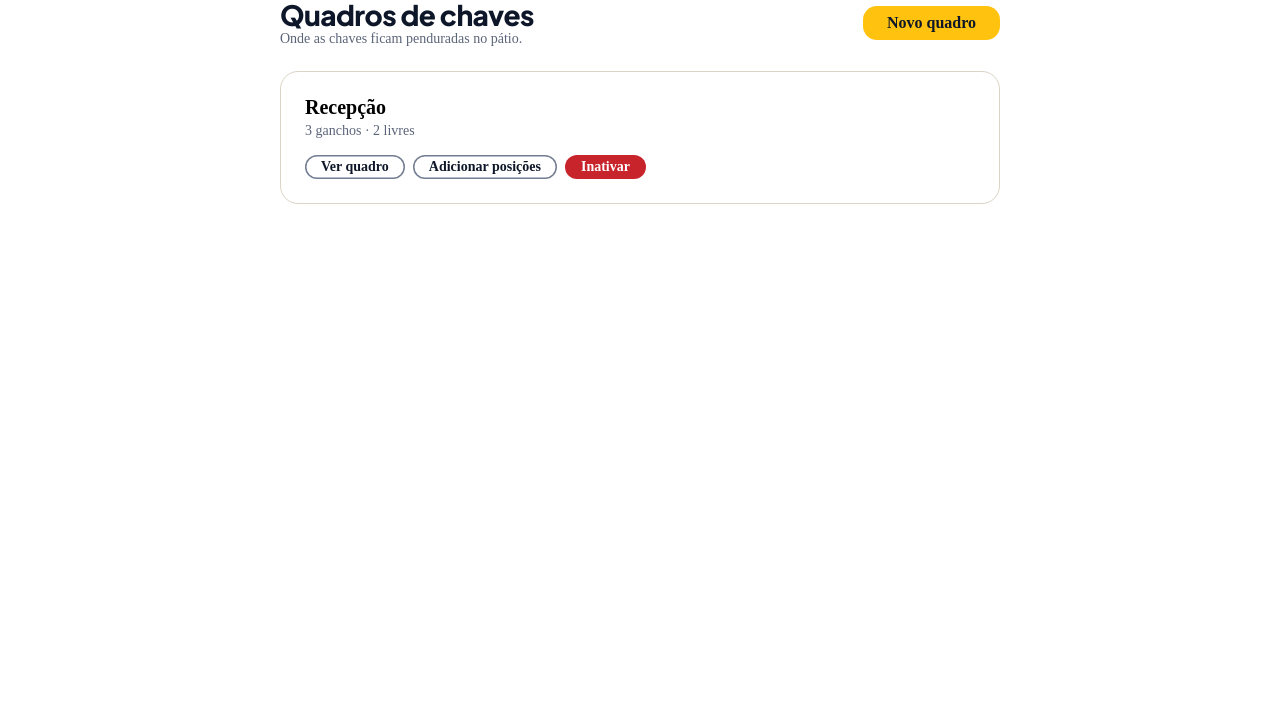
Test: QuadrosLista › inativar com chaves no pátio mostra o motivo e só oferece Entendi
The width and height of the screenshot is (1280, 720).
Click the button "Inativar". click: click(606, 167)
box: [565,155,646,179]
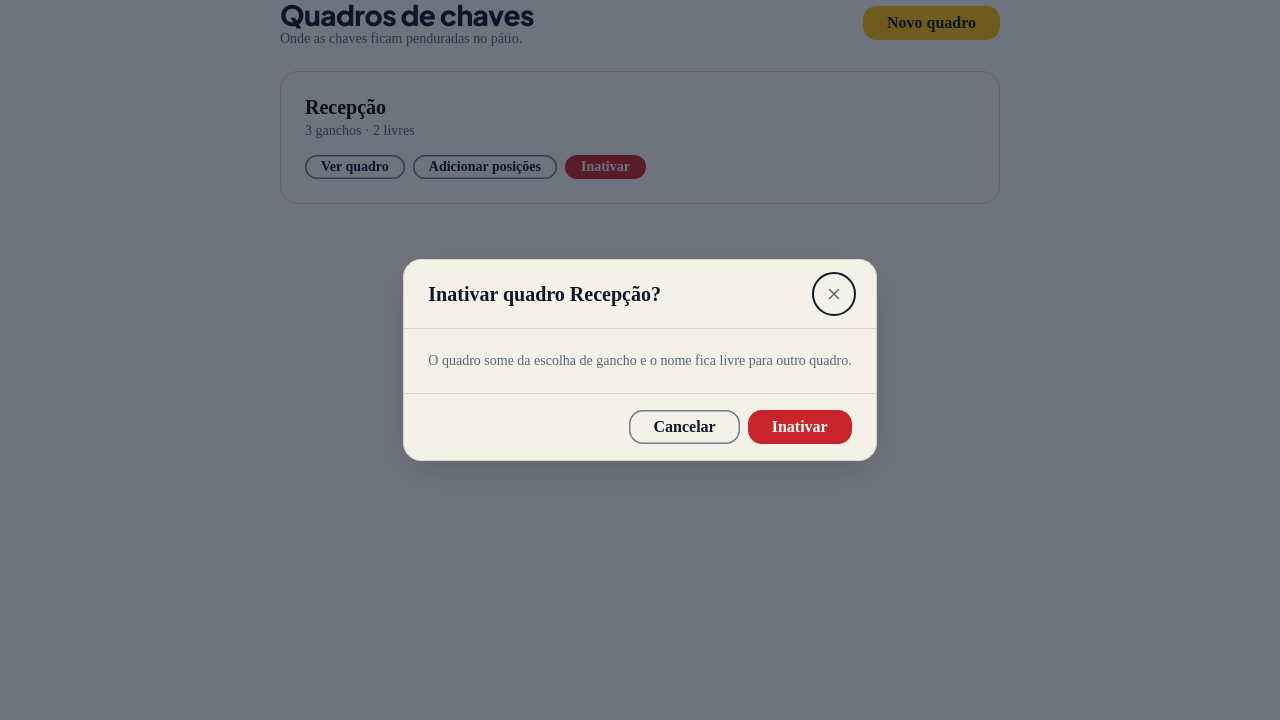
Click the button "Inativar". click: click(800, 427)
box: [748,410,852,444]
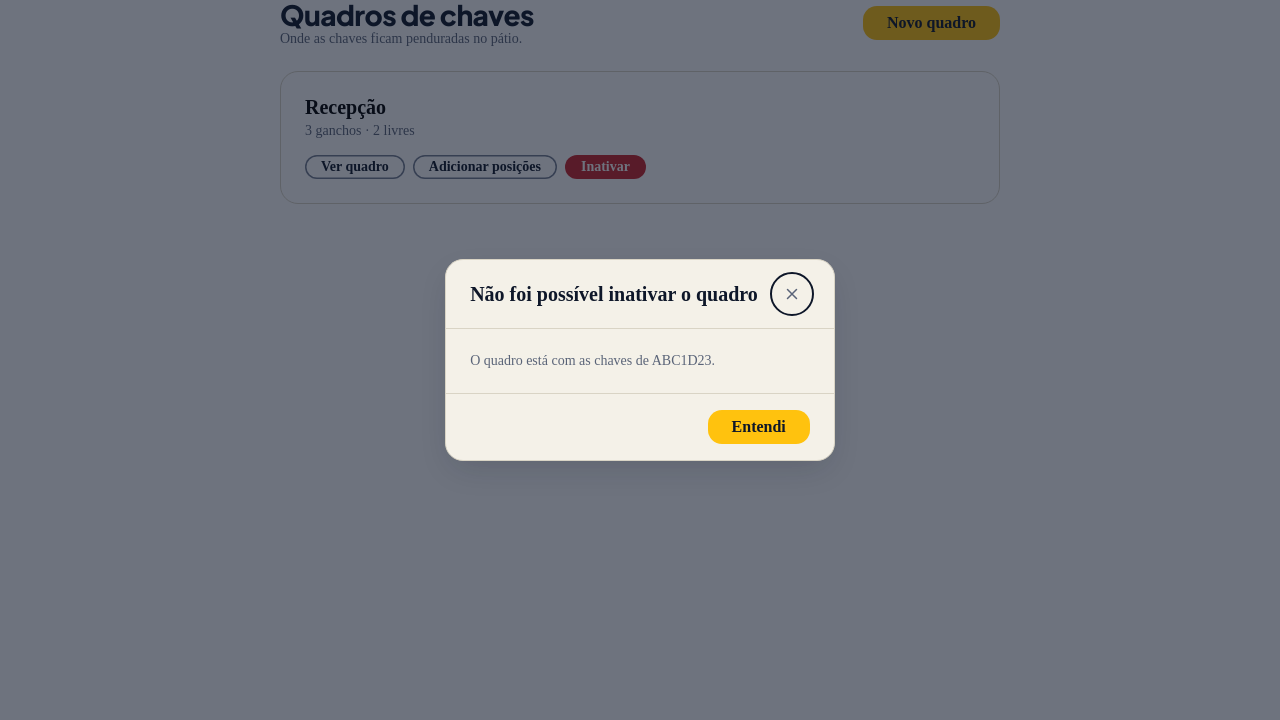
Now the text "O quadro está com as chaves de ABC1D23." is shown, box [470,353,715,368]
Click the button "Entendi". click: click(759, 427)
box: [708,410,810,444]
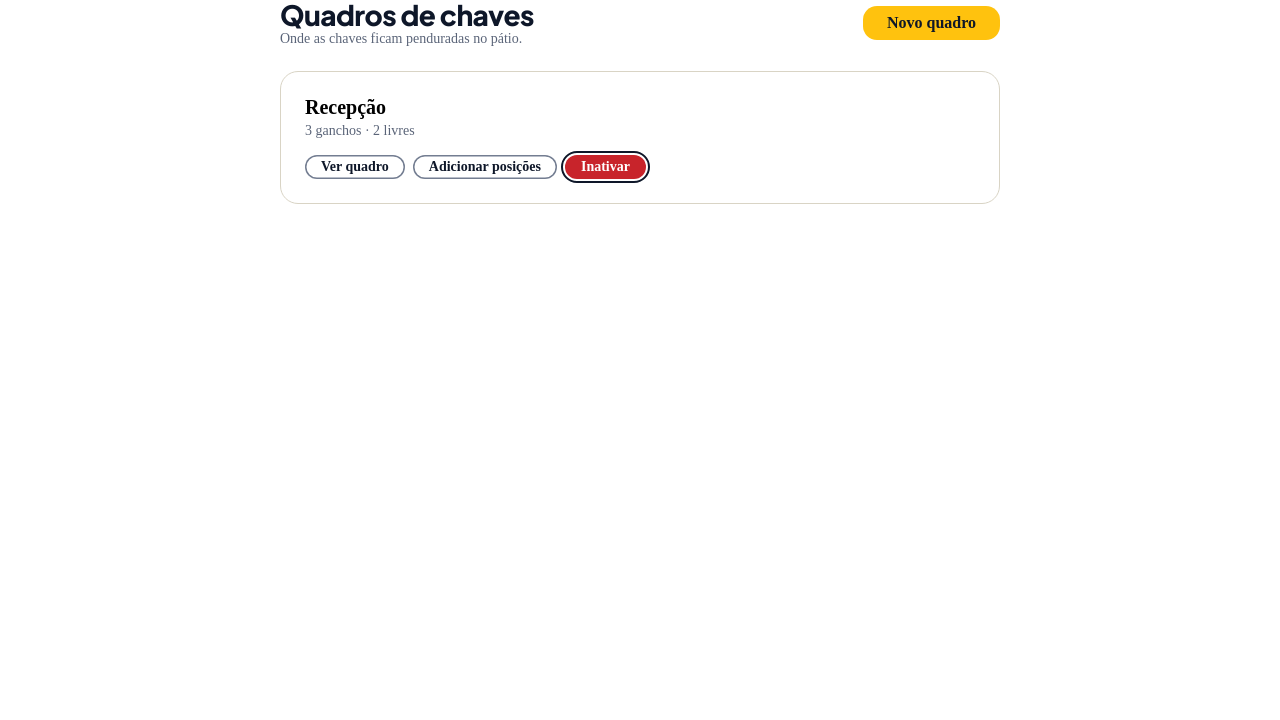
Now the text "O quadro está com as chaves de ABC1D23." is gone
